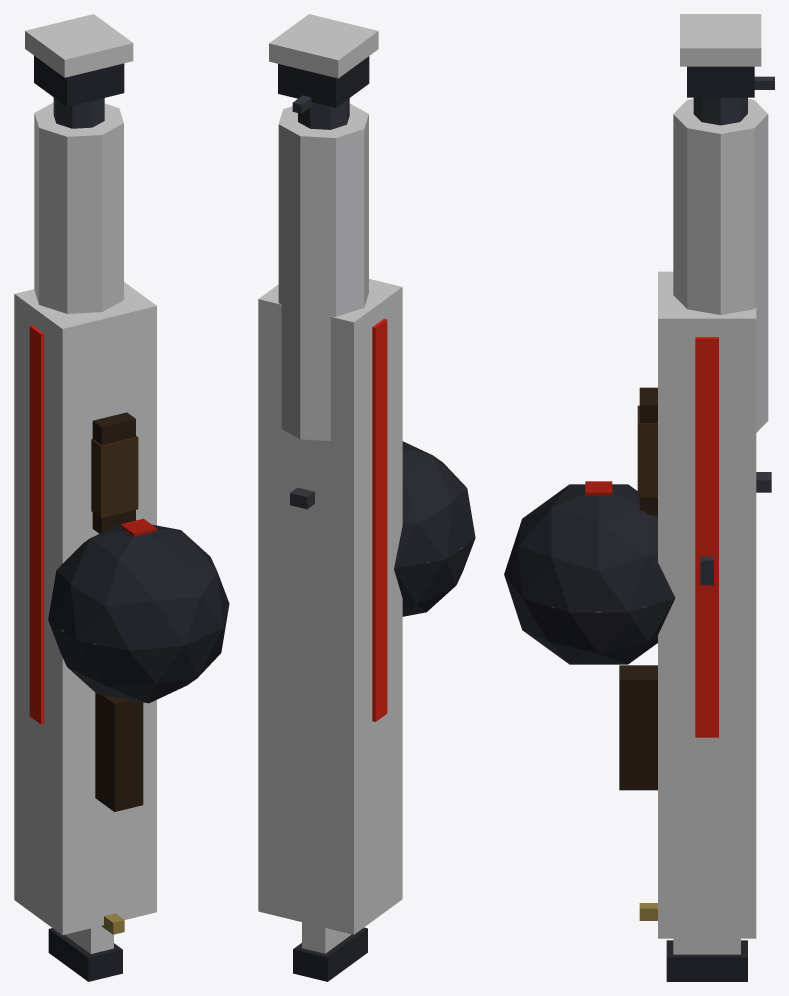
File: gun_friendly_trooper.glb
3 views of the same model, side by side, from view 1: azimuth 30°, elevation 25°; view 2: azimuth 150°, elevation 25°; view 3: azimuth 270°, elevation 25° (orthographic). The views are drawn at different scales.
Visible parts, largest first — view 1: gun_soviet_trooper; view 2: gun_soviet_trooper; view 3: gun_soviet_trooper.
Boxes of the visible parts, x1,y1,x2,y2 form: gun_soviet_trooper: (14, 14, 229, 981); gun_soviet_trooper: (258, 14, 475, 981); gun_soviet_trooper: (504, 14, 774, 981).
Bounding box in the file's own units: 0.27 × 1.53 × 0.4.
